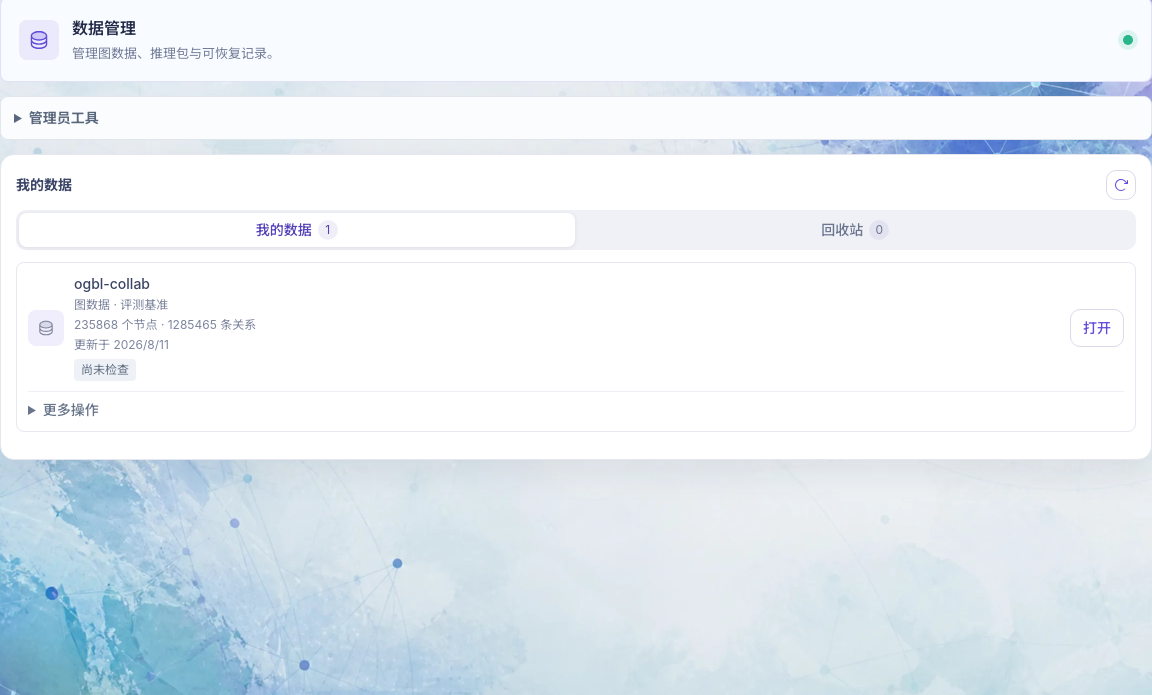
Test: ResearchDatasetPanel portable package selection › labels and resolves a ready TrainingDatasetRef 1.1 without implying that training has started
Expected: the text "ogbl-collab" is shown, x1=74 y1=275 x2=150 y2=292
Expected: the text "审计信息" is not shown
Click the heading "管理员工具" at (64, 118), box x1=29 y1=109 x2=99 y2=126
(page scrolled)
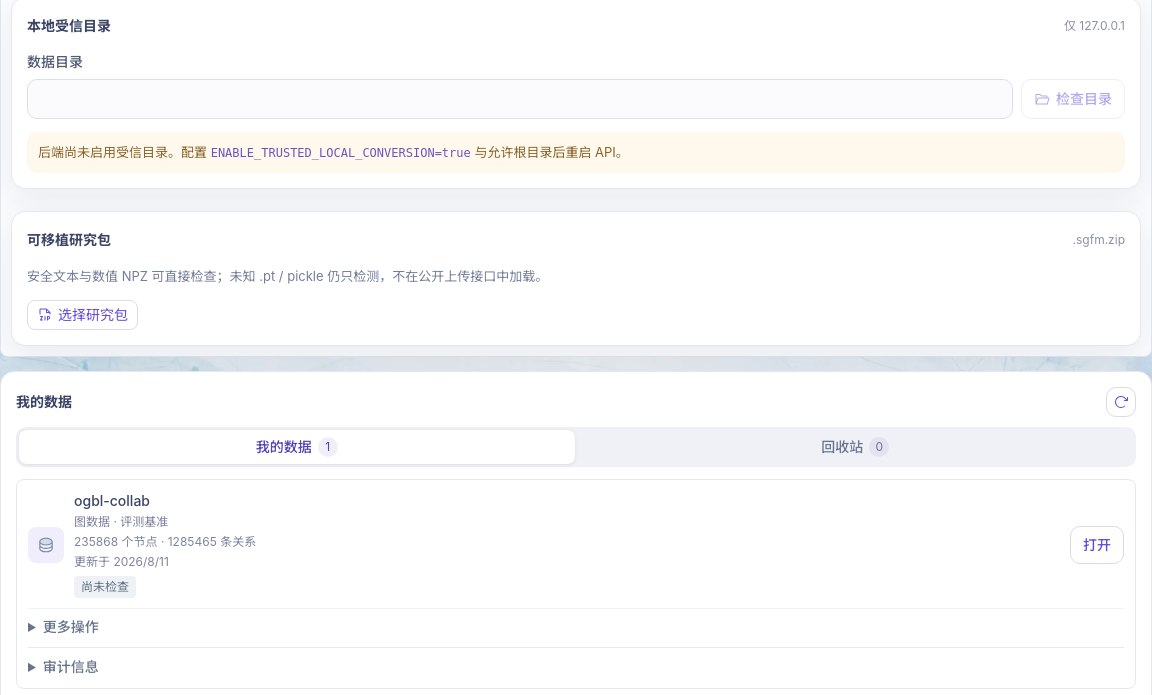
Click the heading "更多操作" at (71, 626), box x1=43 y1=618 x2=99 y2=635
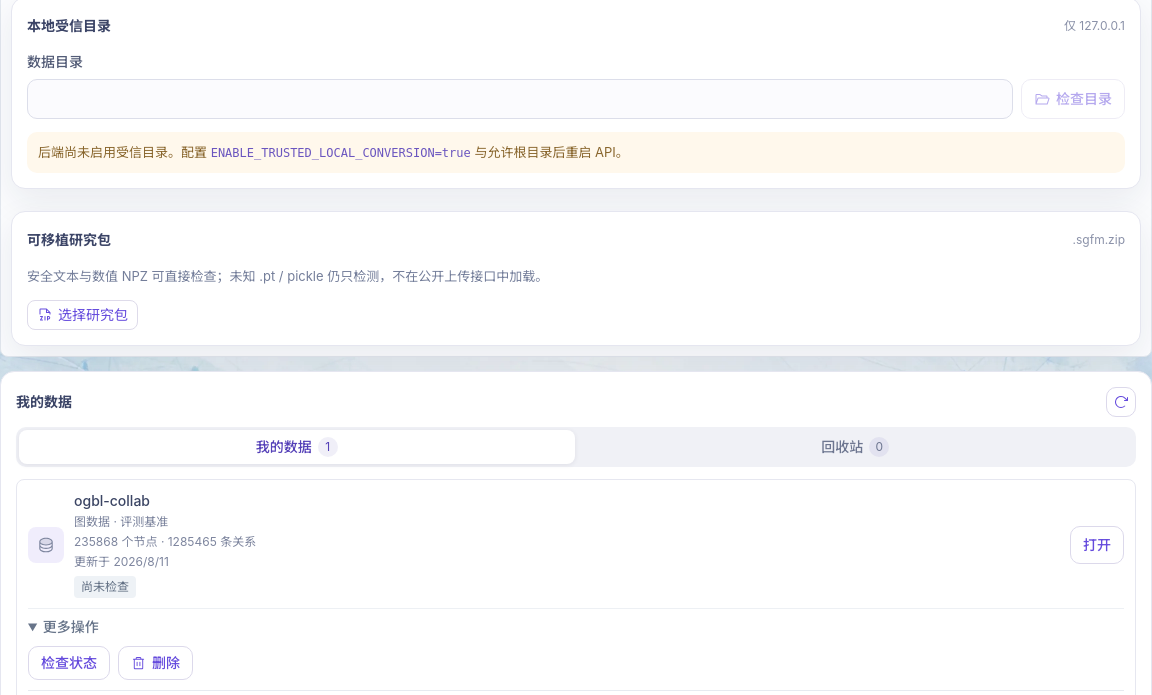
Click the button "检查状态" at (69, 663), box x1=28 y1=646 x2=110 y2=680
(page scrolled)
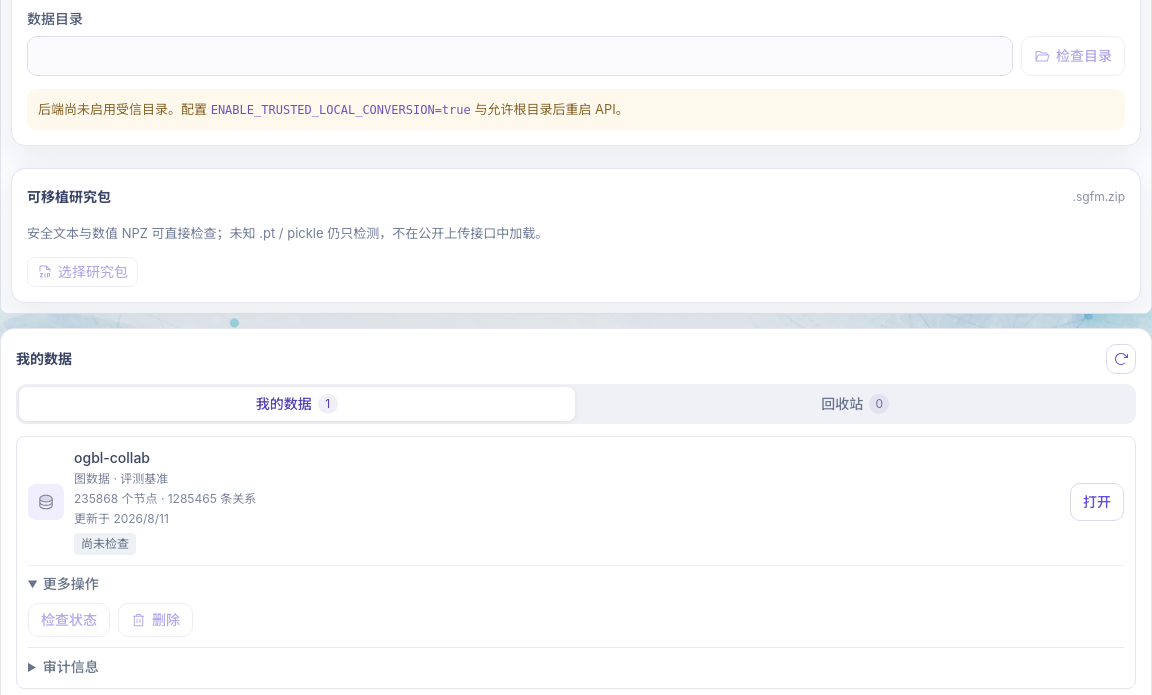
Click the heading "审计信息" at (71, 666), box x1=43 y1=658 x2=99 y2=675
(page scrolled)
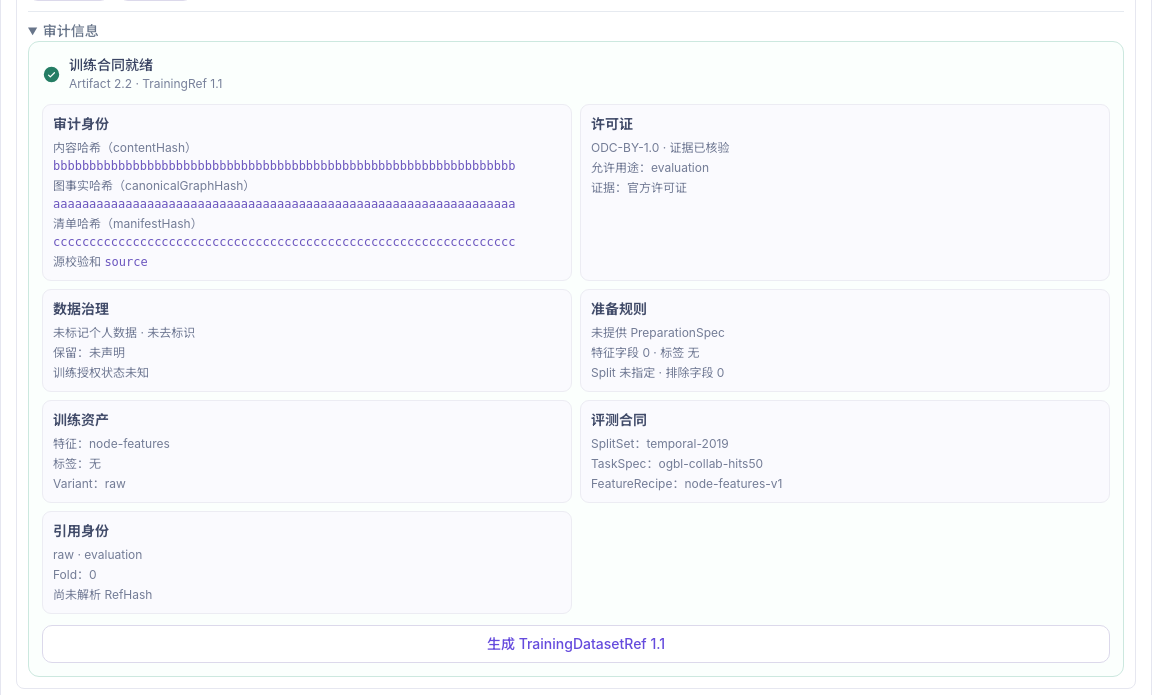
Now the text "Artifact 2.2 · TrainingRef 1.1" is shown, box x1=69 y1=75 x2=222 y2=93
Click the button "生成 TrainingDatasetRef 1.1" at (576, 644), box x1=42 y1=625 x2=1110 y2=663
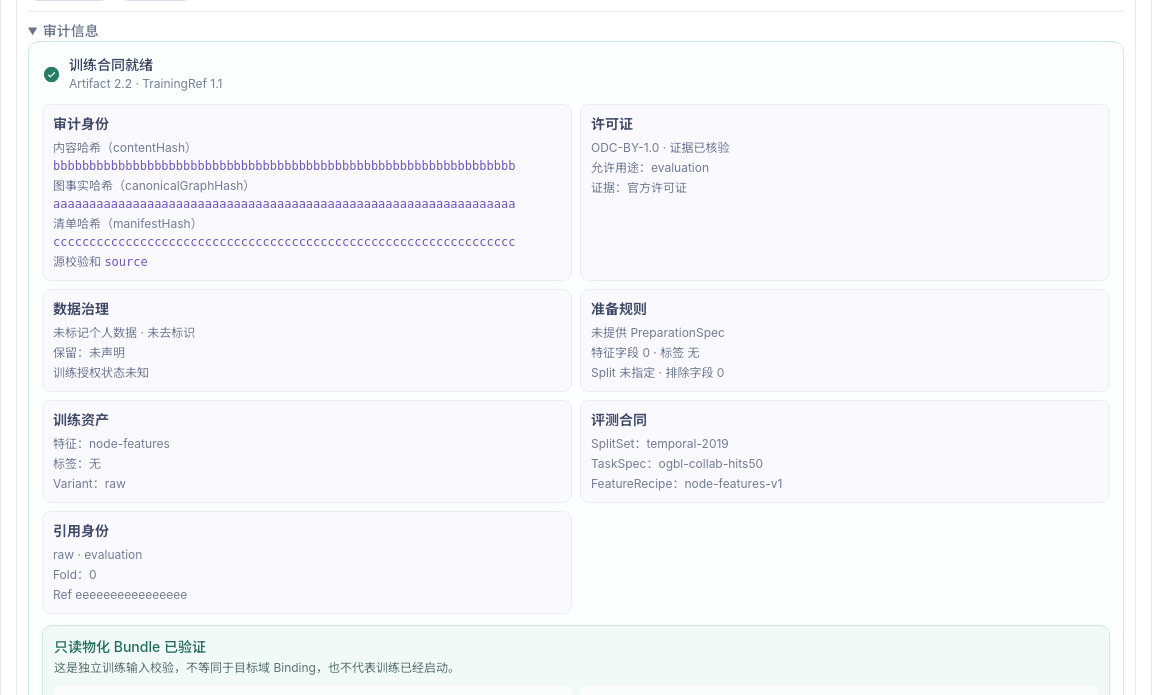
Now the text "Fold：0" is shown, box x1=53 y1=567 x2=97 y2=582
Now the text "只读物化 Bundle 已验证" is shown, box x1=54 y1=638 x2=206 y2=655
Now the text "这是独立训练输入校验，不等同于目标域 Binding，也不代表训练已经启动。" is shown, box x1=54 y1=660 x2=460 y2=675
